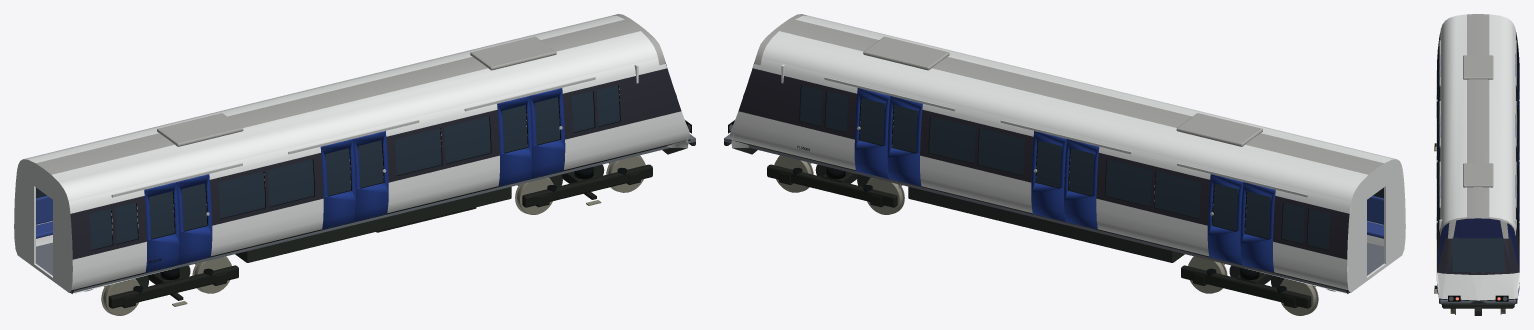
The model's file is mf77__tail.glb.
3 views of the same model, side by side, from view 1: azimuth 30°, elevation 25°; view 2: azimuth 150°, elevation 25°; view 3: azimuth 270°, elevation 25° (orthographic). The views are drawn at different scales.
Parts seen in each view (by area): view 1: mf77_tail; view 2: mf77_tail; view 3: mf77_tail.
Part boxes in pixels (x1,y1,x2,y2): mf77_tail: [14, 14, 695, 315]; mf77_tail: [724, 14, 1405, 315]; mf77_tail: [1434, 14, 1519, 315].
Size of the model in its own units: 15.44 by 3.49 by 2.55.
9 materials, 4 textured.
